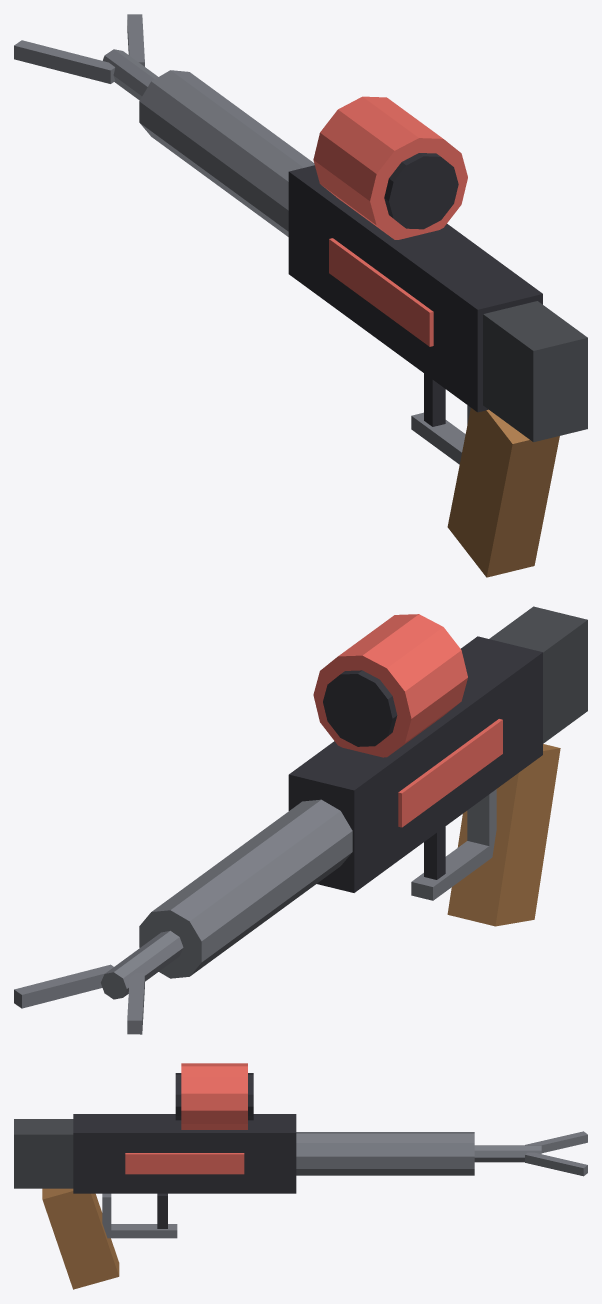
The model's file is grappler.glb.
The picture shows the model from 3 angles, top to bottom: view 1: azimuth 30°, elevation 25°; view 2: azimuth 150°, elevation 25°; view 3: azimuth 270°, elevation 25°; orthographic projection. The views are drawn at different scales.
Parts seen in each view (by area): view 1: Grappler; view 2: Grappler; view 3: Grappler.
Part boxes in pixels (x1,y1,x2,y2): Grappler: (14, 14, 587, 577); Grappler: (14, 606, 587, 1034); Grappler: (14, 1063, 587, 1289).
Bounding box in the file's own units: 0.1177 × 0.3215 × 0.7724.
